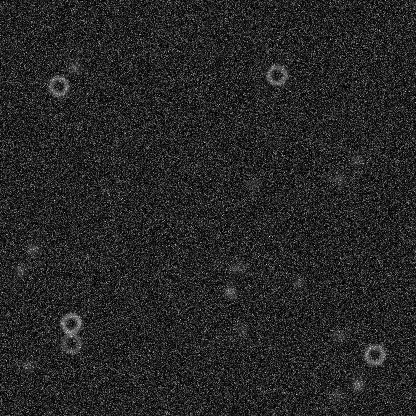Ring: (58, 311, 82, 335), (46, 73, 70, 97), (59, 331, 83, 355), (264, 62, 288, 86), (362, 342, 386, 366)
Spot: (228, 259, 244, 275), (232, 320, 248, 336), (328, 387, 344, 403), (330, 171, 346, 187), (221, 283, 237, 299), (20, 358, 36, 374), (225, 330, 241, 346), (349, 376, 365, 392), (24, 241, 40, 257), (66, 59, 82, 75), (290, 273, 306, 289), (330, 327, 346, 343), (348, 151, 364, 167), (12, 262, 28, 278), (246, 176, 262, 192)
